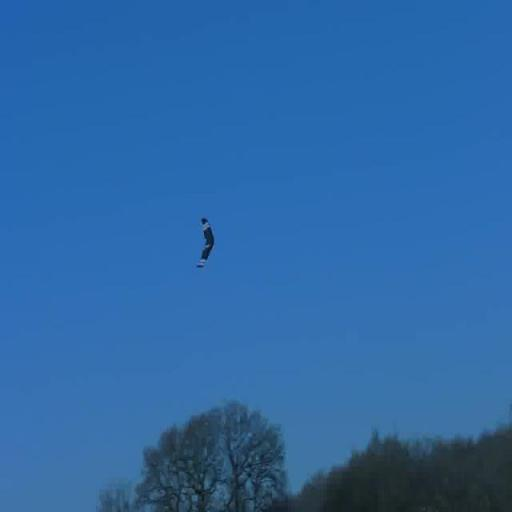uav: (196, 215, 218, 277)
